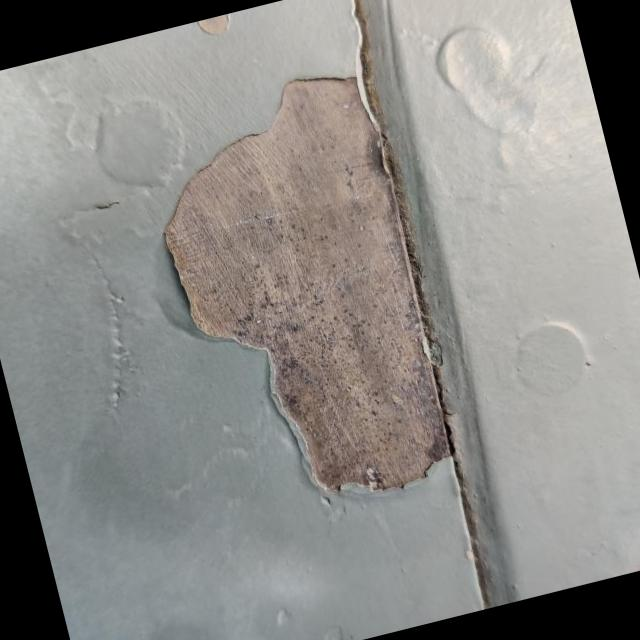Paint-off: (163, 77, 455, 493)
